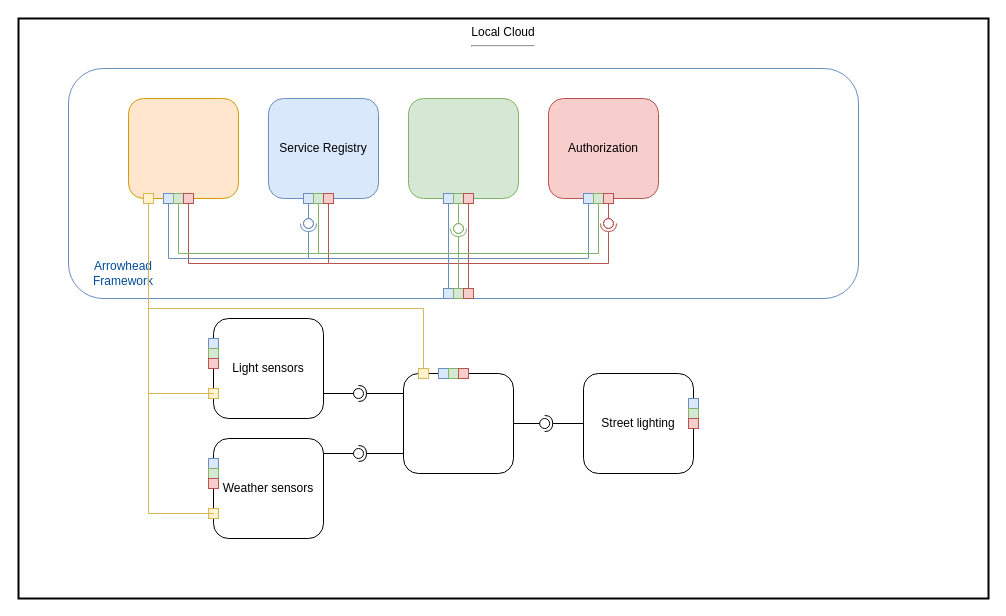
This 1006x616 diagram has some shape labels left out. Here are the shapes that lost their labels. From the top down, the centre of each, then its label:
At point (183, 148): "EventHandler".
At point (463, 148): "Orchestration".
At point (458, 423): "Controller".
